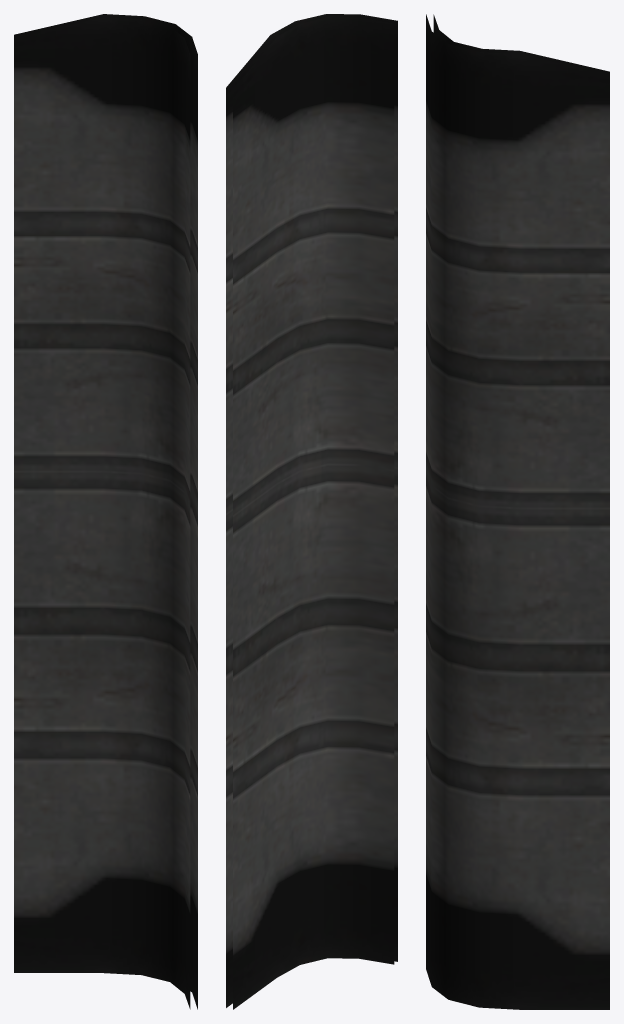
The model's file is p6_metal_panel_railing_90r_lod2.glb.
The picture shows the model from 3 angles, left to right: view 1: azimuth 90°, elevation 25°; view 2: azimuth 150°, elevation 25°; view 3: azimuth 270°, elevation 25°; orthographic projection.
Parts seen in each view (by area): view 1: surf0; view 2: surf0; view 3: surf0.
Part boxes in pixels (left/top/right/bottom): surf0: left=14, top=14, right=197, bottom=1009; surf0: left=226, top=14, right=397, bottom=1009; surf0: left=426, top=14, right=609, bottom=1009.
Bounding box in the file's own units: 3.17 × 35 × 6.1.
